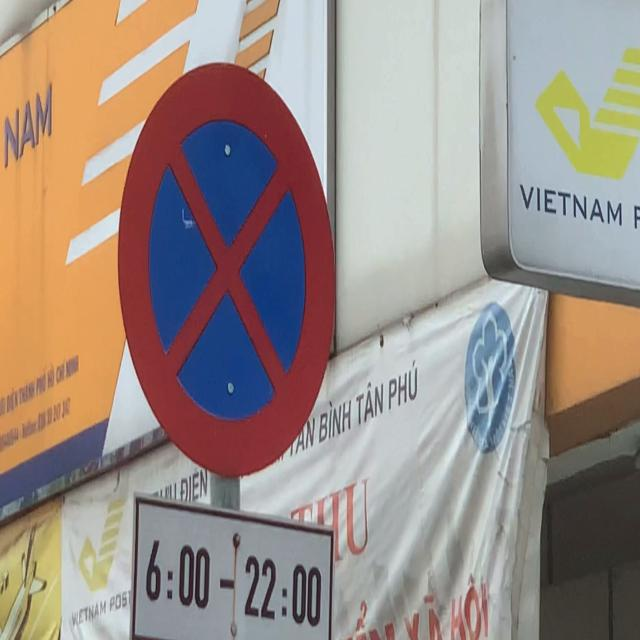Cam dung va do: (102, 49, 351, 495)
